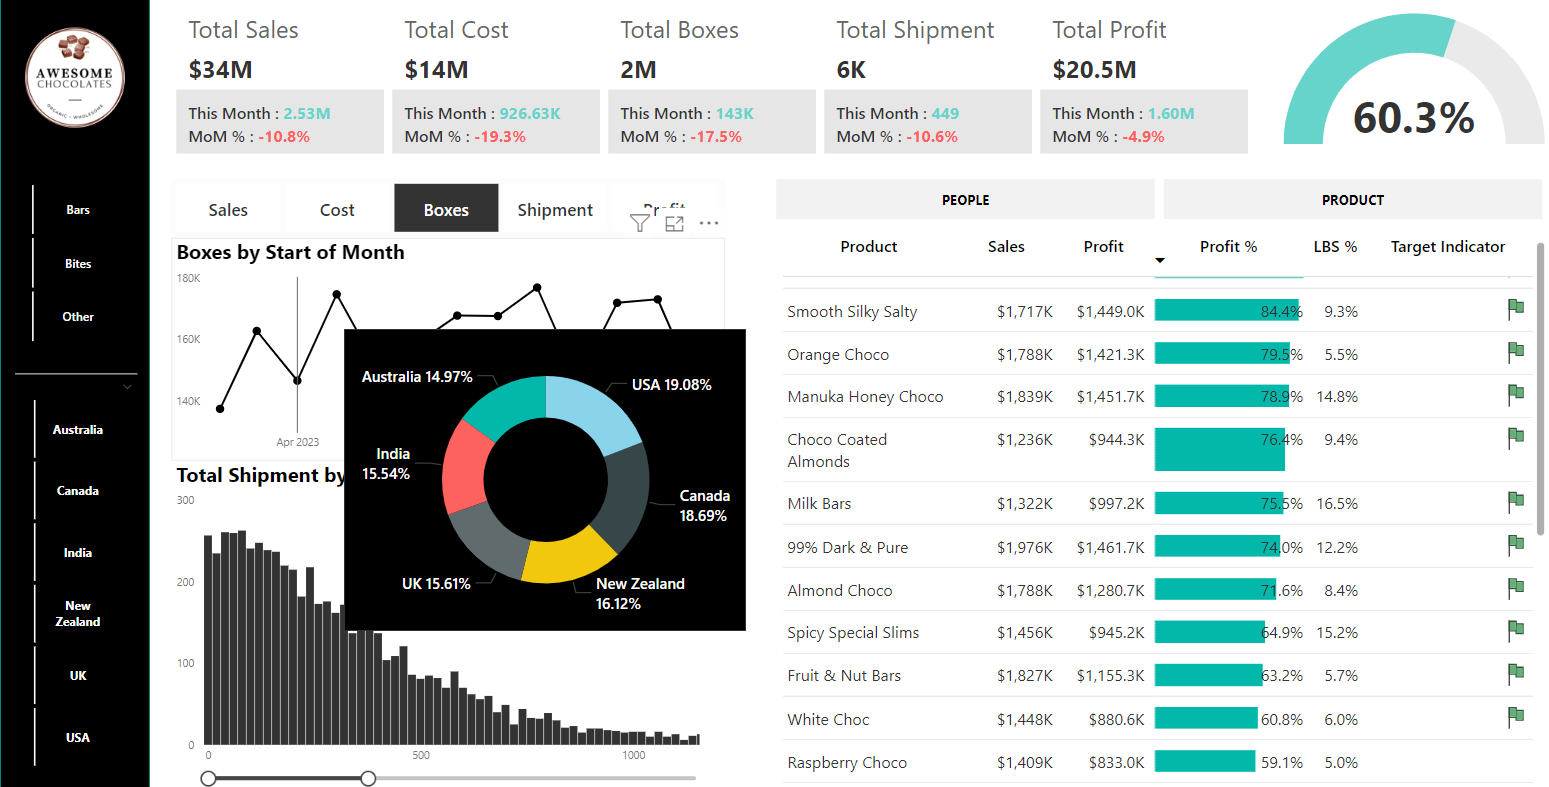

Layout of this report page (visuals, bound fields, positions):
{"tool":"powerbi","page":{"name":"Page 2","canvas":[1550,790],"ordinal":0},"visuals":[{"type":"shape","box":[0,0,150,790],"z":0},{"type":"cardVisual","fields":{"Data":["_Measures.Total Sales","_Measures.Total Cost","_Measures.Total Boxes","_Measures.Total Shipment","_Measures.Total Profit"]},"box":[171.2,2.5,1085,157.5],"z":1000},{"type":"gauge","fields":{"Y":["_Measures.Profit %"]},"box":[1278.8,0,271.2,160],"z":2000},{"type":"advancedSlicerVisual","fields":{"Values":["Measure Parameter.Measure Parameter"]},"box":[171.2,180,553.8,58.8],"z":3000},{"type":"columnChart","title":"Total Shipment by Boxes ","fields":{"Category":["shipments.Boxes (bins)"],"Y":["_Measures.Total Shipment"]},"box":[171.2,461.2,542.5,328.8],"z":4000},{"type":"gauge","fields":{"Y":["_Measures.LBS %"]},"box":[563.8,496.2,150,95],"z":5000},{"type":"tableEx","title":"View Product Details","fields":{"Values":["shipments.Product","_Measures.Total Sales","_Measures.Total Profit","_Measures.Profit %","_Measures.LBS %","_Measures.Profit Target Indicator"]},"box":[776.2,220,773.8,570],"z":6000},{"type":"actionButton","title":"PEOPLE","box":[776.2,180,378.8,40],"z":8000},{"type":"actionButton","title":"Product","box":[1163.8,180,378.8,40],"z":9000},{"type":"image","box":[14.3,24.3,122.9,110],"z":10000},{"type":"slicer","fields":{"Values":["products.Category"]},"box":[11.4,184.3,130,160],"z":11000},{"type":"slicer","fields":{"Values":["locations.Geo"]},"box":[7.1,375.7,137.1,397.1],"z":12000},{"type":"shape","box":[14.4,368.9,122.2,12.2],"z":13000},{"type":"lineChart","fields":{"Category":["calendar.Start of Month"],"Y":["_Measures.Total Boxes"]},"box":[171.1,238.9,553.3,222.2],"z":13001}]}

Visuals, with their boxes on the page's 1550x790 design canvas (x1, y1, x2, y2). These are canvas units, not pixel positions in the 1549x787 screenshot, which may show the page scaled, cropped or inside an application window:
shape: l=0, t=0, r=150, b=790
cardVisual - _Measures.Total Sales x _Measures.Total Cost: l=171, t=2, r=1256, b=160
gauge - _Measures.Profit %: l=1279, t=0, r=1550, b=160
advancedSlicerVisual - Measure Parameter.Measure Parameter: l=171, t=180, r=725, b=239
"Total Shipment by Boxes " columnChart: l=171, t=461, r=714, b=790
gauge - _Measures.LBS %: l=564, t=496, r=714, b=591
"View Product Details" tableEx: l=776, t=220, r=1550, b=790
"PEOPLE" actionButton: l=776, t=180, r=1155, b=220
"Product" actionButton: l=1164, t=180, r=1543, b=220
image: l=14, t=24, r=137, b=134
slicer - products.Category: l=11, t=184, r=141, b=344
slicer - locations.Geo: l=7, t=376, r=144, b=773
shape: l=14, t=369, r=137, b=381
lineChart - calendar.Start of Month x _Measures.Total Boxes: l=171, t=239, r=724, b=461
